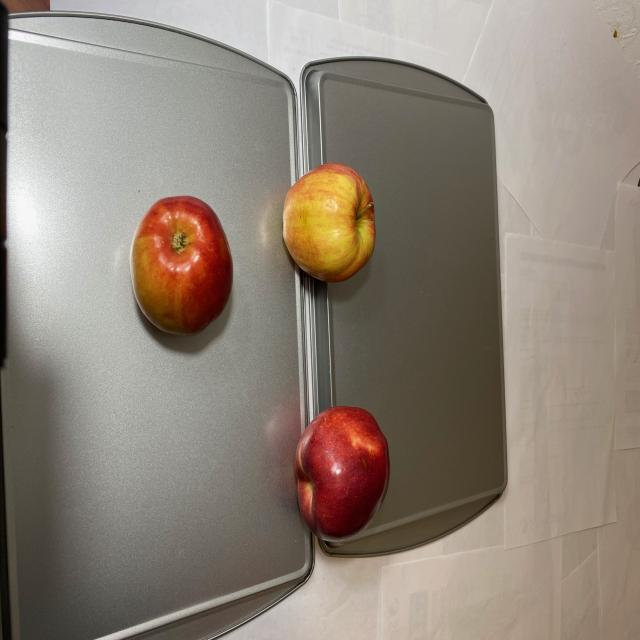apple: (130, 160, 376, 347), (285, 399, 393, 545)
